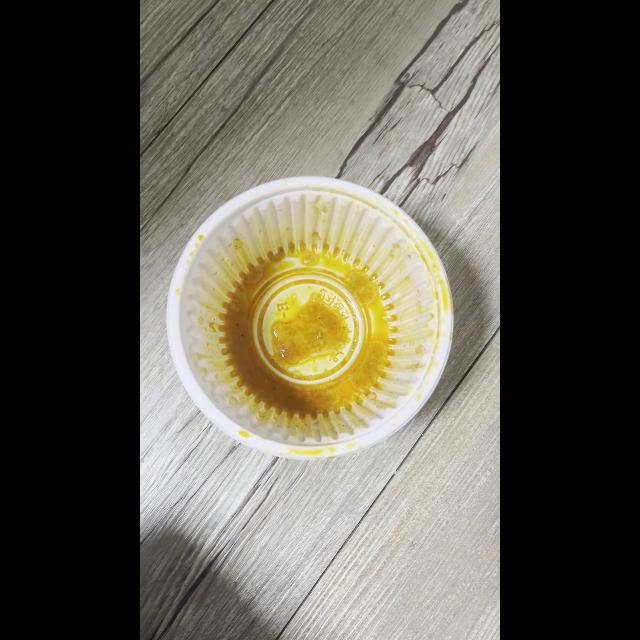dirty: (167, 178, 453, 452)
